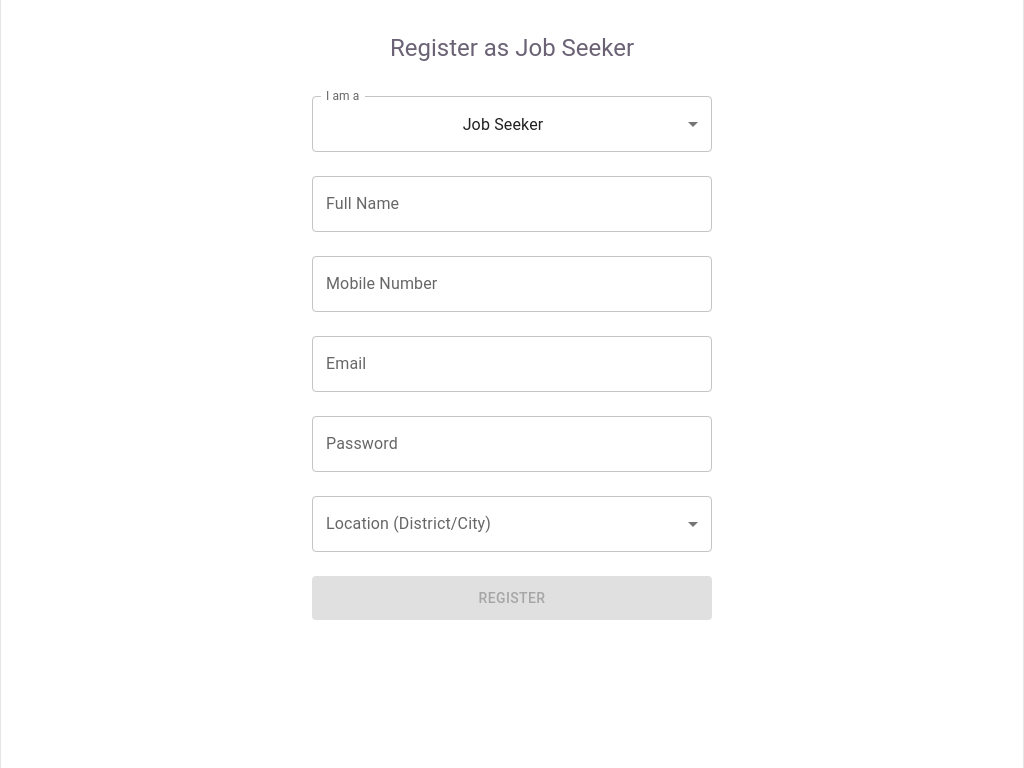
Scenario: RegistrationForm › shows validation errors for invalid input
Type "A" into the field labelled "Full Name" at (512, 204), box 312,176 -> 712,232
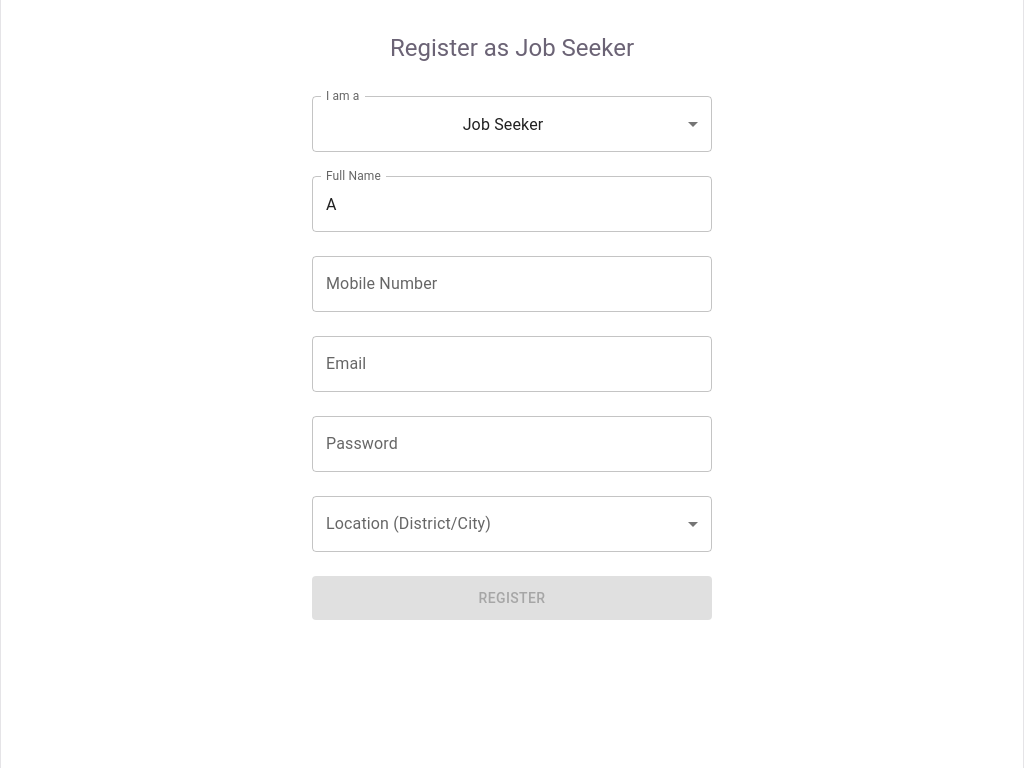
Leave the field labelled "Full Name", box 312,176 -> 712,232
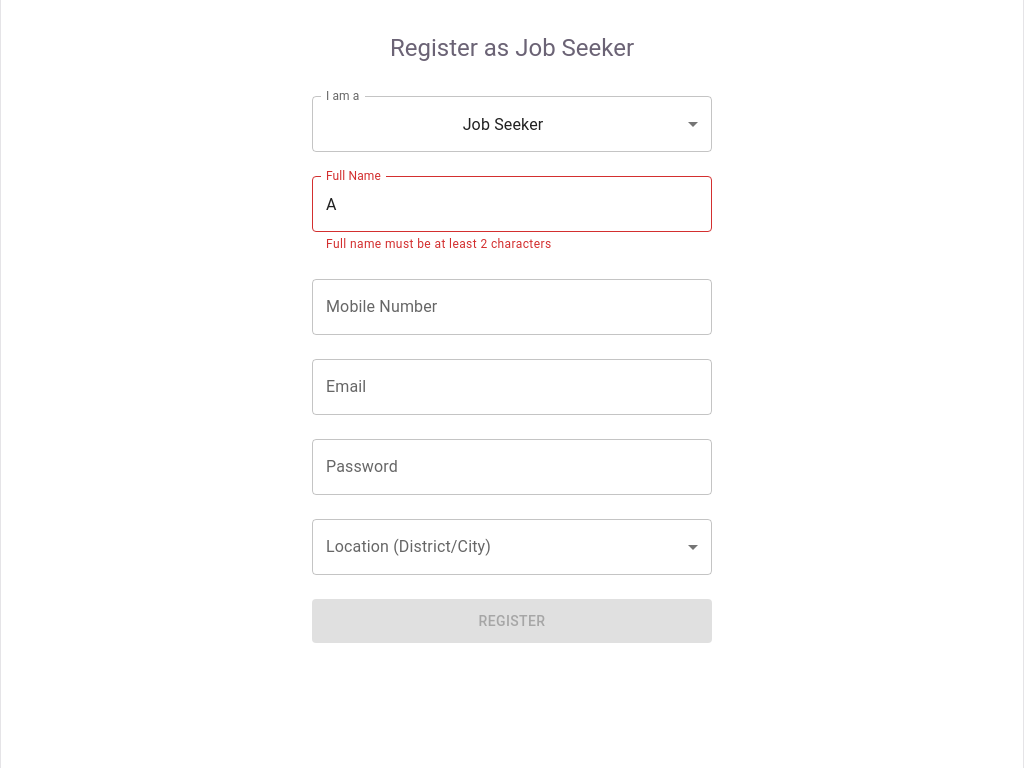
Expected: the text "Full name must be at least 2 characters" is shown, 326,237 -> 552,251
Type "bademail" into the field labelled "Email" at (512, 387), box 312,359 -> 712,415
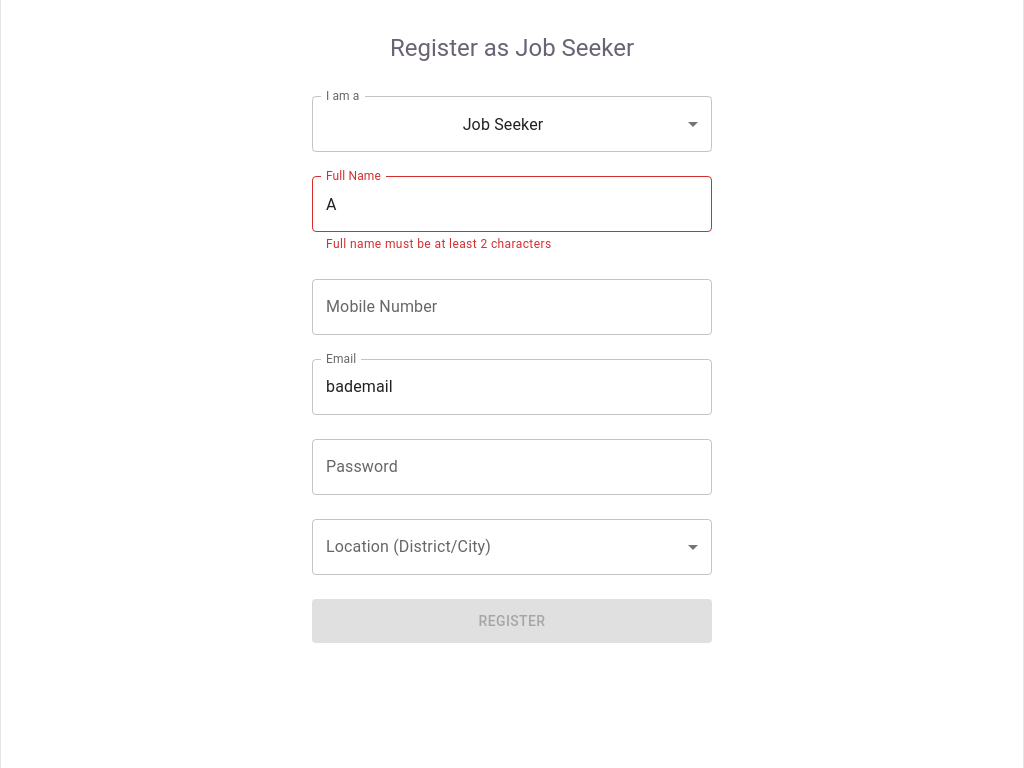
Leave the field labelled "Email", box 312,359 -> 712,415
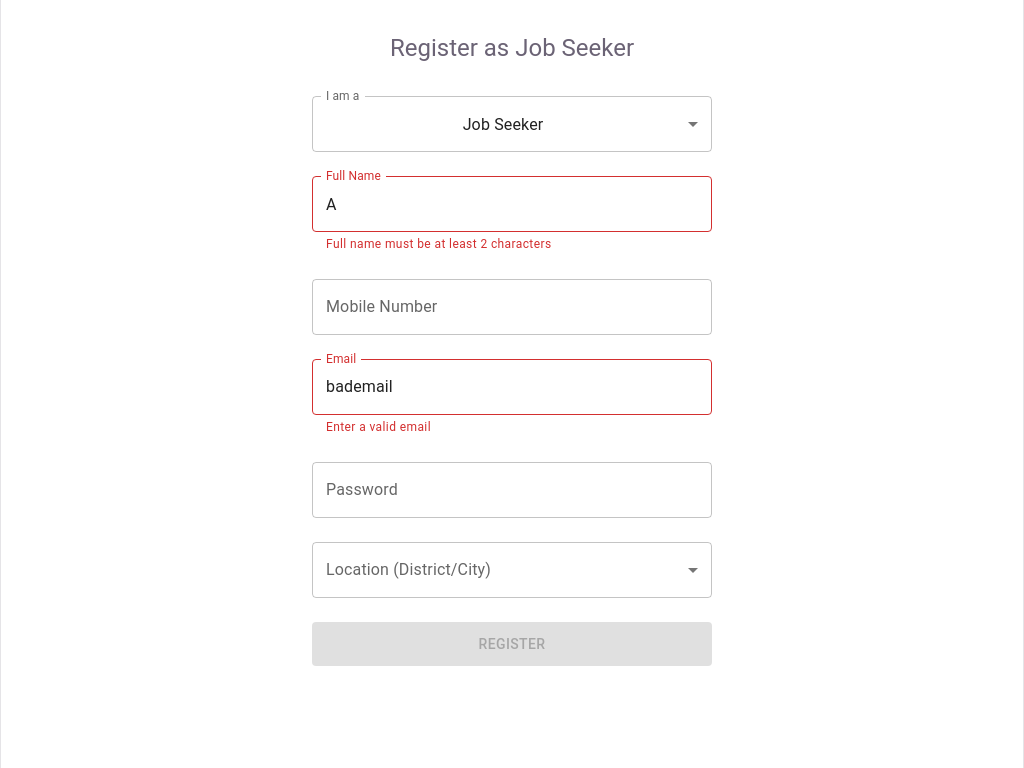
Expected: the text "Enter a valid email" is shown, 326,420 -> 431,434
